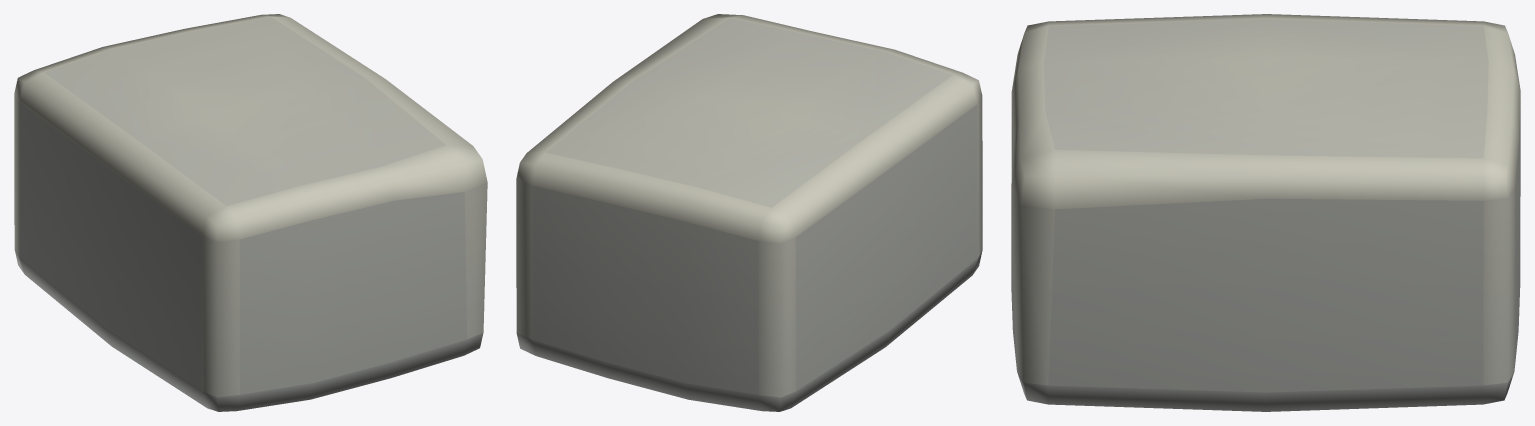
The model's file is block_corner_stone4_LOD_setup.fbx.
3 renders of one model, left to right at view 1: azimuth 30°, elevation 25°; view 2: azimuth 150°, elevation 25°; view 3: azimuth 270°, elevation 25°, orthographic. The views are drawn at different scales.
Parts seen in each view (by area): view 1: block_corner_stone4_LOD0; view 2: block_corner_stone4_LOD0; view 3: block_corner_stone4_LOD0.
Boxes of the visible parts, bbox=[...] form: block_corner_stone4_LOD0: bbox=[14, 14, 487, 411]; block_corner_stone4_LOD0: bbox=[516, 14, 982, 411]; block_corner_stone4_LOD0: bbox=[1011, 14, 1520, 411].
Size of what is drawn, in the model's own units: 82.15 by 60.15 by 107.
